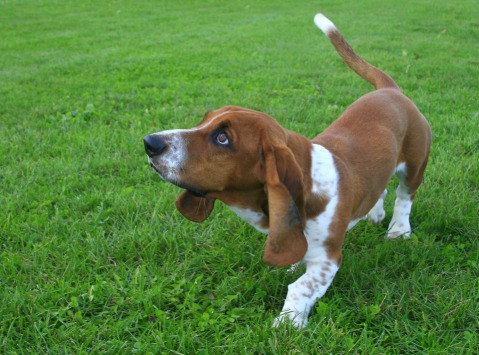tail: (310, 14, 403, 91)
